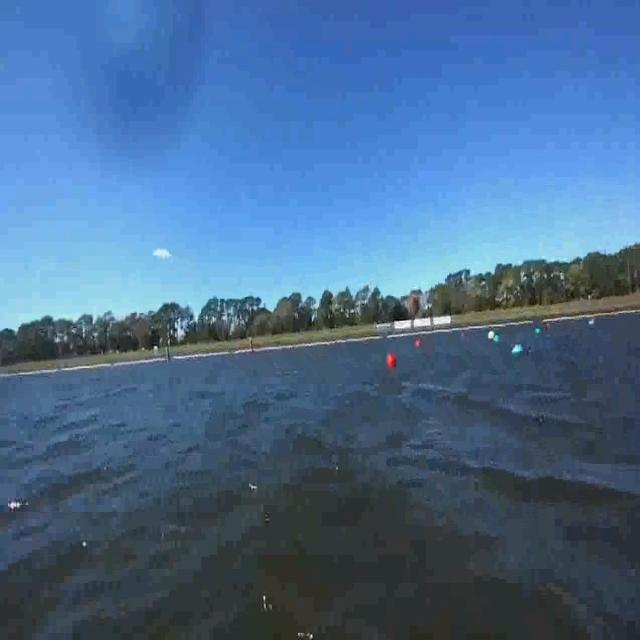green-buoy: (513, 345, 525, 356), (492, 335, 503, 345), (537, 329, 544, 338)
red-buoy: (385, 352, 394, 370), (414, 335, 422, 350)
